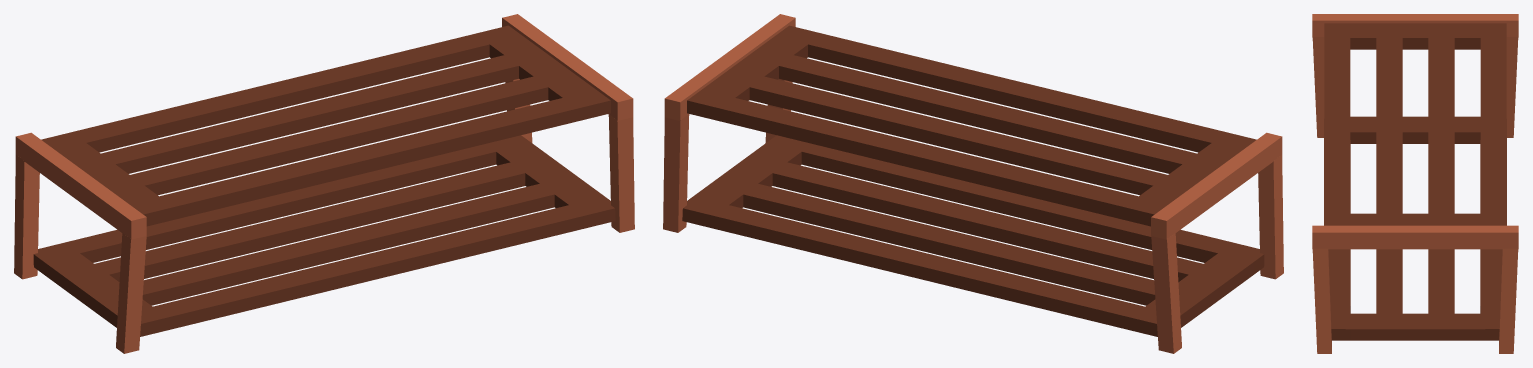
Rendered from ShoeRack.fbx.
3 views of the same model, side by side, from view 1: azimuth 30°, elevation 25°; view 2: azimuth 150°, elevation 25°; view 3: azimuth 270°, elevation 25° (orthographic). The views are drawn at different scales.
Visible parts, largest first — view 1: Cube.045; view 2: Cube.045; view 3: Cube.045.
Part boxes in pixels (x1,y1,x2,y2): Cube.045: [14, 14, 634, 353]; Cube.045: [663, 14, 1283, 353]; Cube.045: [1312, 14, 1518, 353].
Bounding box in the file's own units: 53.43 × 13.39 × 20.92.
